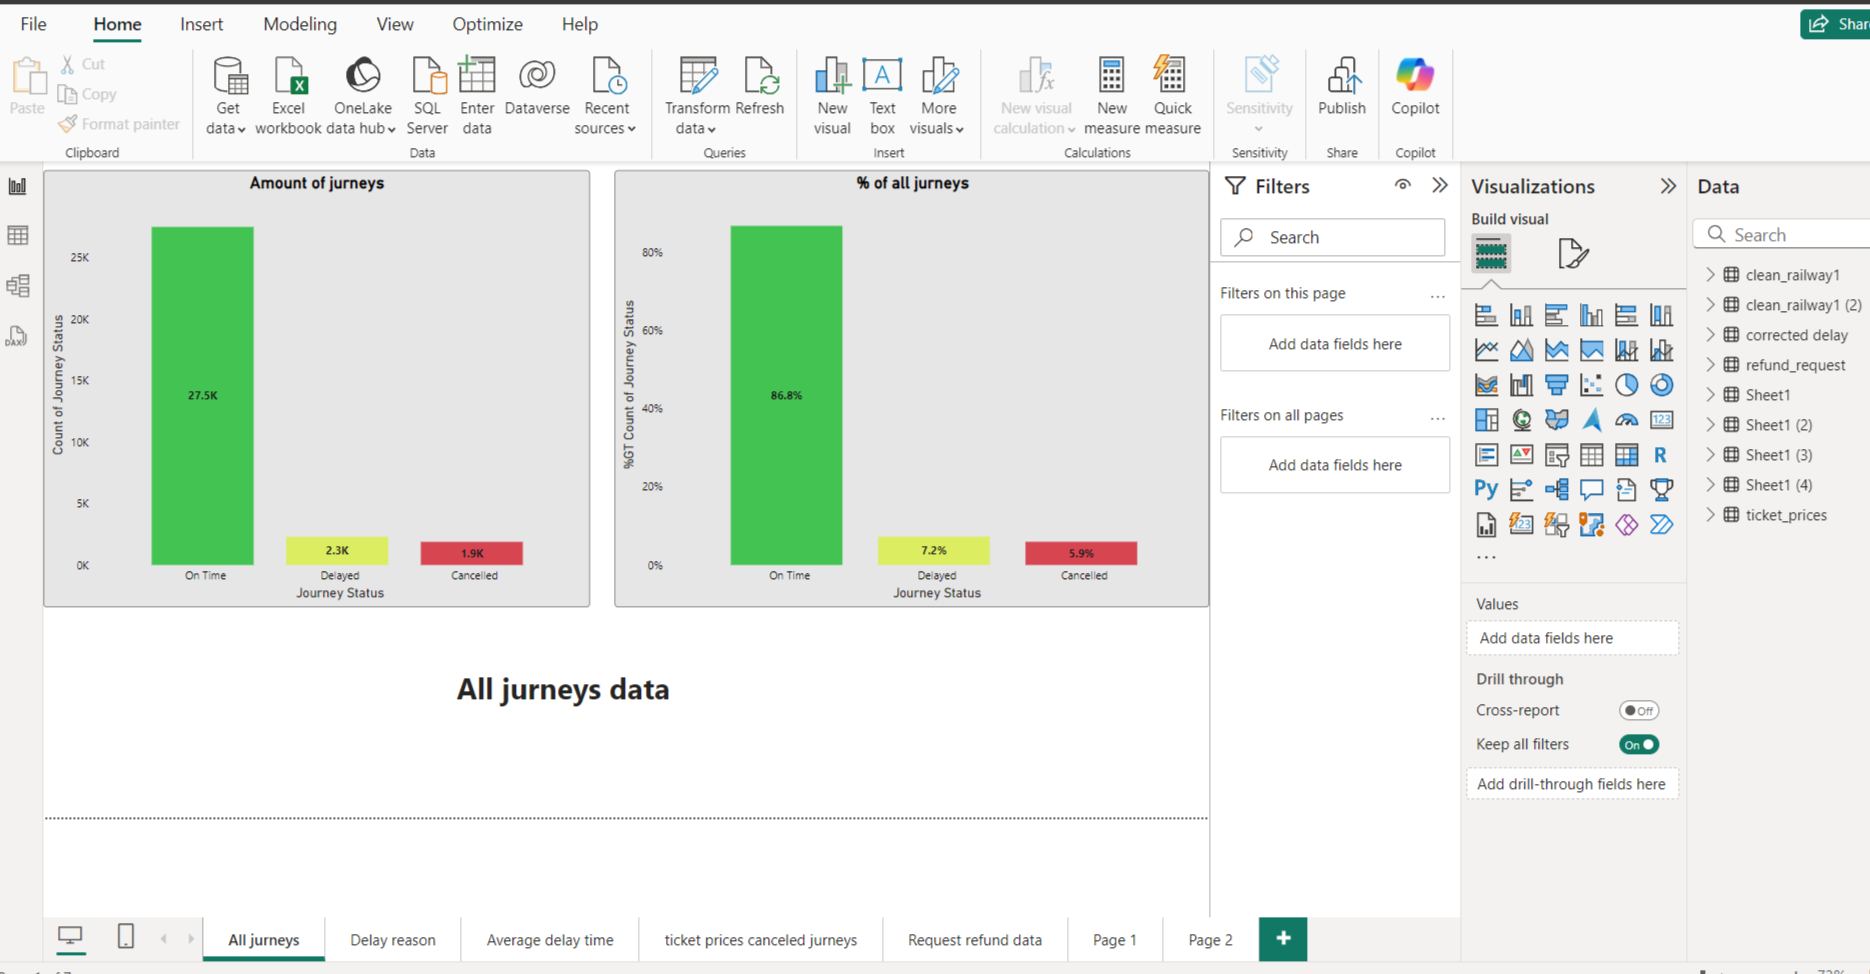

What the dashboard file says about the page in this screenshot:
{"tool":"powerbi","page":{"name":"All jurneys","canvas":[1280,720],"ordinal":0},"visuals":[{"type":"columnChart","title":"Amount of jurneys","fields":{"Category":["clean_railway1.Journey Status"],"Y":["CountNonNull(clean_railway1.Journey Status)"]},"box":[0,9.6,599.7,480.3],"z":0},{"type":"columnChart","title":"% of all jurneys","fields":{"Category":["clean_railway1.Journey Status"],"Y":["CountNonNull(clean_railway1.Journey Status)"]},"box":[627.1,9.6,653.2,480.3],"z":1000},{"type":"textbox","box":[448.7,551.6,355.4,60.4],"z":2000}]}

Visuals, with their boxes on the page's 1280x720 design canvas (x1, y1, x2, y2). These are canvas units, not pixel positions in the 1870x974 screenshot, which may show the page scaled, cropped or inside an application window:
"Amount of jurneys" columnChart: x1=0, y1=10, x2=600, y2=490
"% of all jurneys" columnChart: x1=627, y1=10, x2=1280, y2=490
textbox: x1=449, y1=552, x2=804, y2=612
